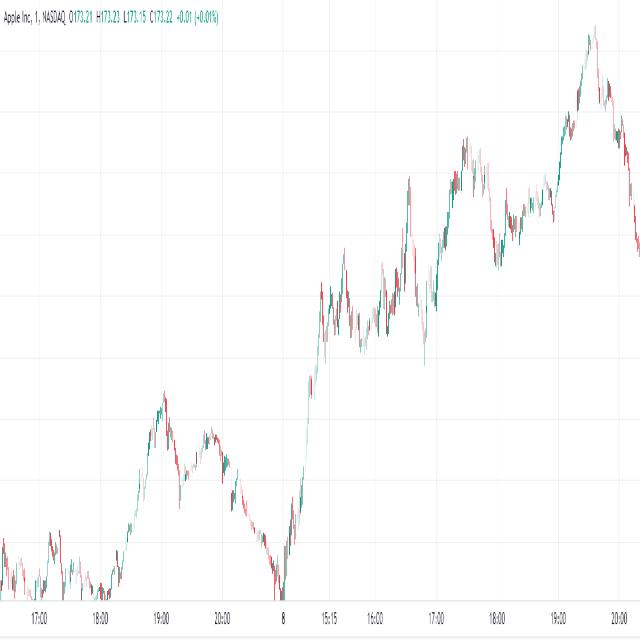Rising-Wedge: (410, 153, 463, 374), (483, 169, 557, 288)
Rounding-Top: (445, 134, 493, 235)
